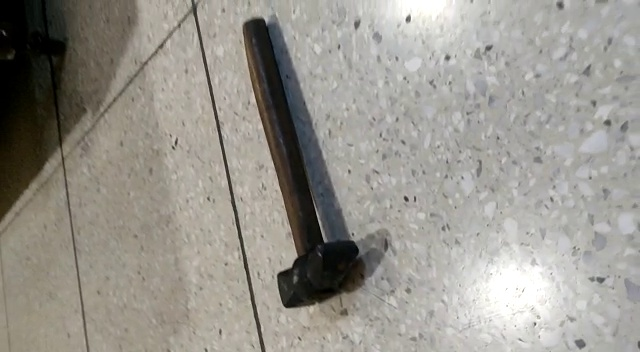hammer: (238, 16, 362, 309)
